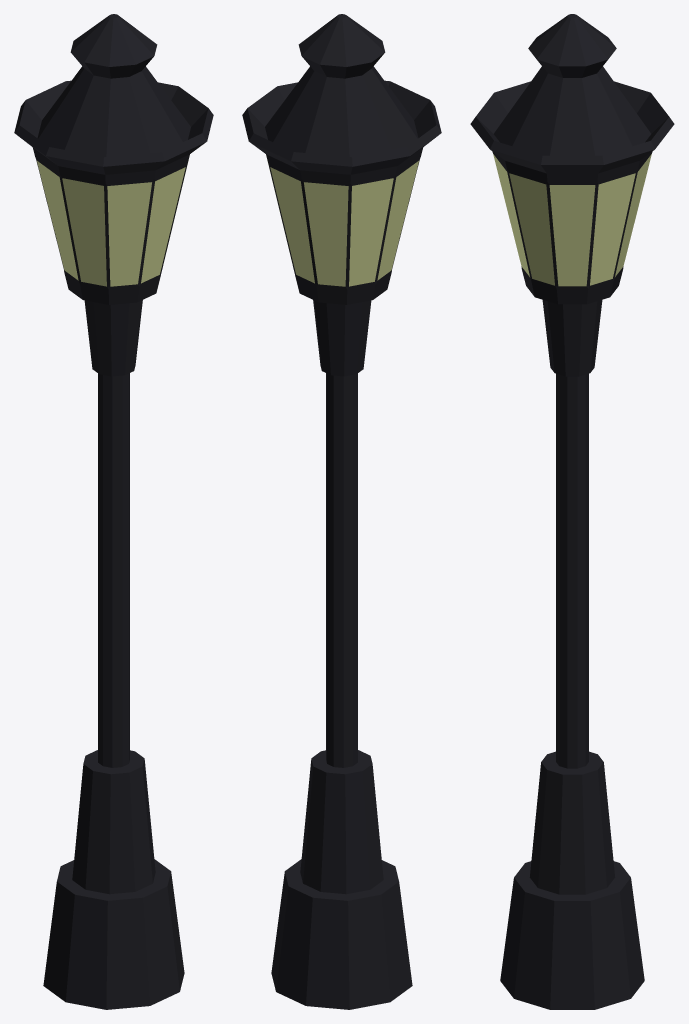
Rendered from Lamp.fbx.
The picture shows the model from 3 angles, left to right: view 1: azimuth 30°, elevation 25°; view 2: azimuth 150°, elevation 25°; view 3: azimuth 270°, elevation 25°; orthographic projection.
Parts seen in each view (by area): view 1: Cylinder.007; view 2: Cylinder.007; view 3: Cylinder.007.
Part boxes in pixels (x1=…): Cylinder.007: x1=14, y1=14, x2=213, y2=1009; Cylinder.007: x1=242, y1=14, x2=441, y2=1009; Cylinder.007: x1=470, y1=14, x2=674, y2=1009.
Bounding box in the file's own units: 36.58 × 200 × 38.46.
